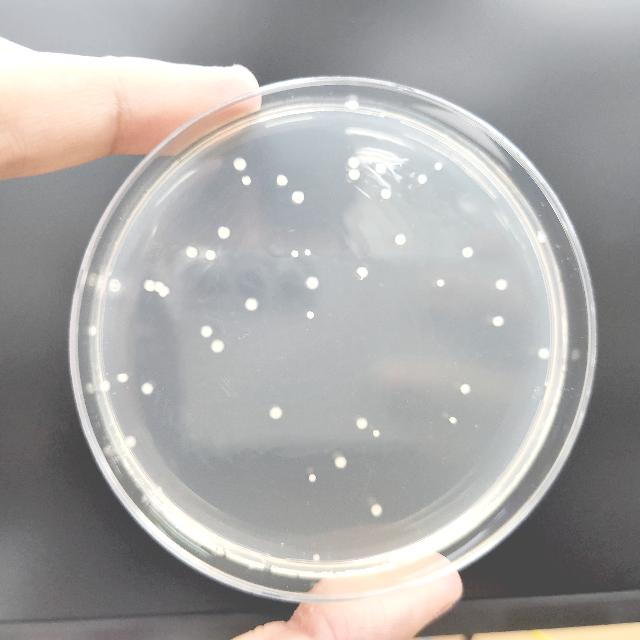colony: (305, 276, 319, 290), (245, 297, 258, 311), (356, 266, 368, 280), (292, 190, 304, 203), (234, 157, 246, 170), (270, 406, 282, 419), (186, 246, 198, 258), (395, 233, 407, 245), (276, 174, 288, 186), (348, 156, 360, 168), (375, 162, 387, 174), (212, 340, 224, 352), (201, 325, 213, 337), (141, 383, 153, 395), (144, 280, 156, 292), (218, 227, 230, 239), (124, 436, 136, 448), (371, 504, 383, 516), (335, 456, 347, 468), (496, 278, 508, 290), (381, 188, 392, 200), (462, 246, 473, 258), (492, 316, 504, 326), (356, 418, 368, 428), (154, 280, 164, 292), (538, 348, 550, 358), (87, 382, 95, 396), (206, 250, 217, 260), (348, 170, 359, 180), (100, 381, 110, 392), (160, 287, 170, 297), (417, 174, 427, 184), (241, 175, 251, 185), (348, 100, 358, 110), (460, 384, 470, 394), (118, 373, 128, 383), (306, 310, 314, 320), (154, 485, 162, 495), (538, 230, 544, 243), (291, 250, 299, 258), (437, 279, 445, 287), (434, 163, 442, 171), (308, 474, 316, 482), (91, 326, 97, 336), (372, 429, 380, 436), (305, 248, 311, 256), (312, 554, 320, 560), (449, 417, 456, 423)
